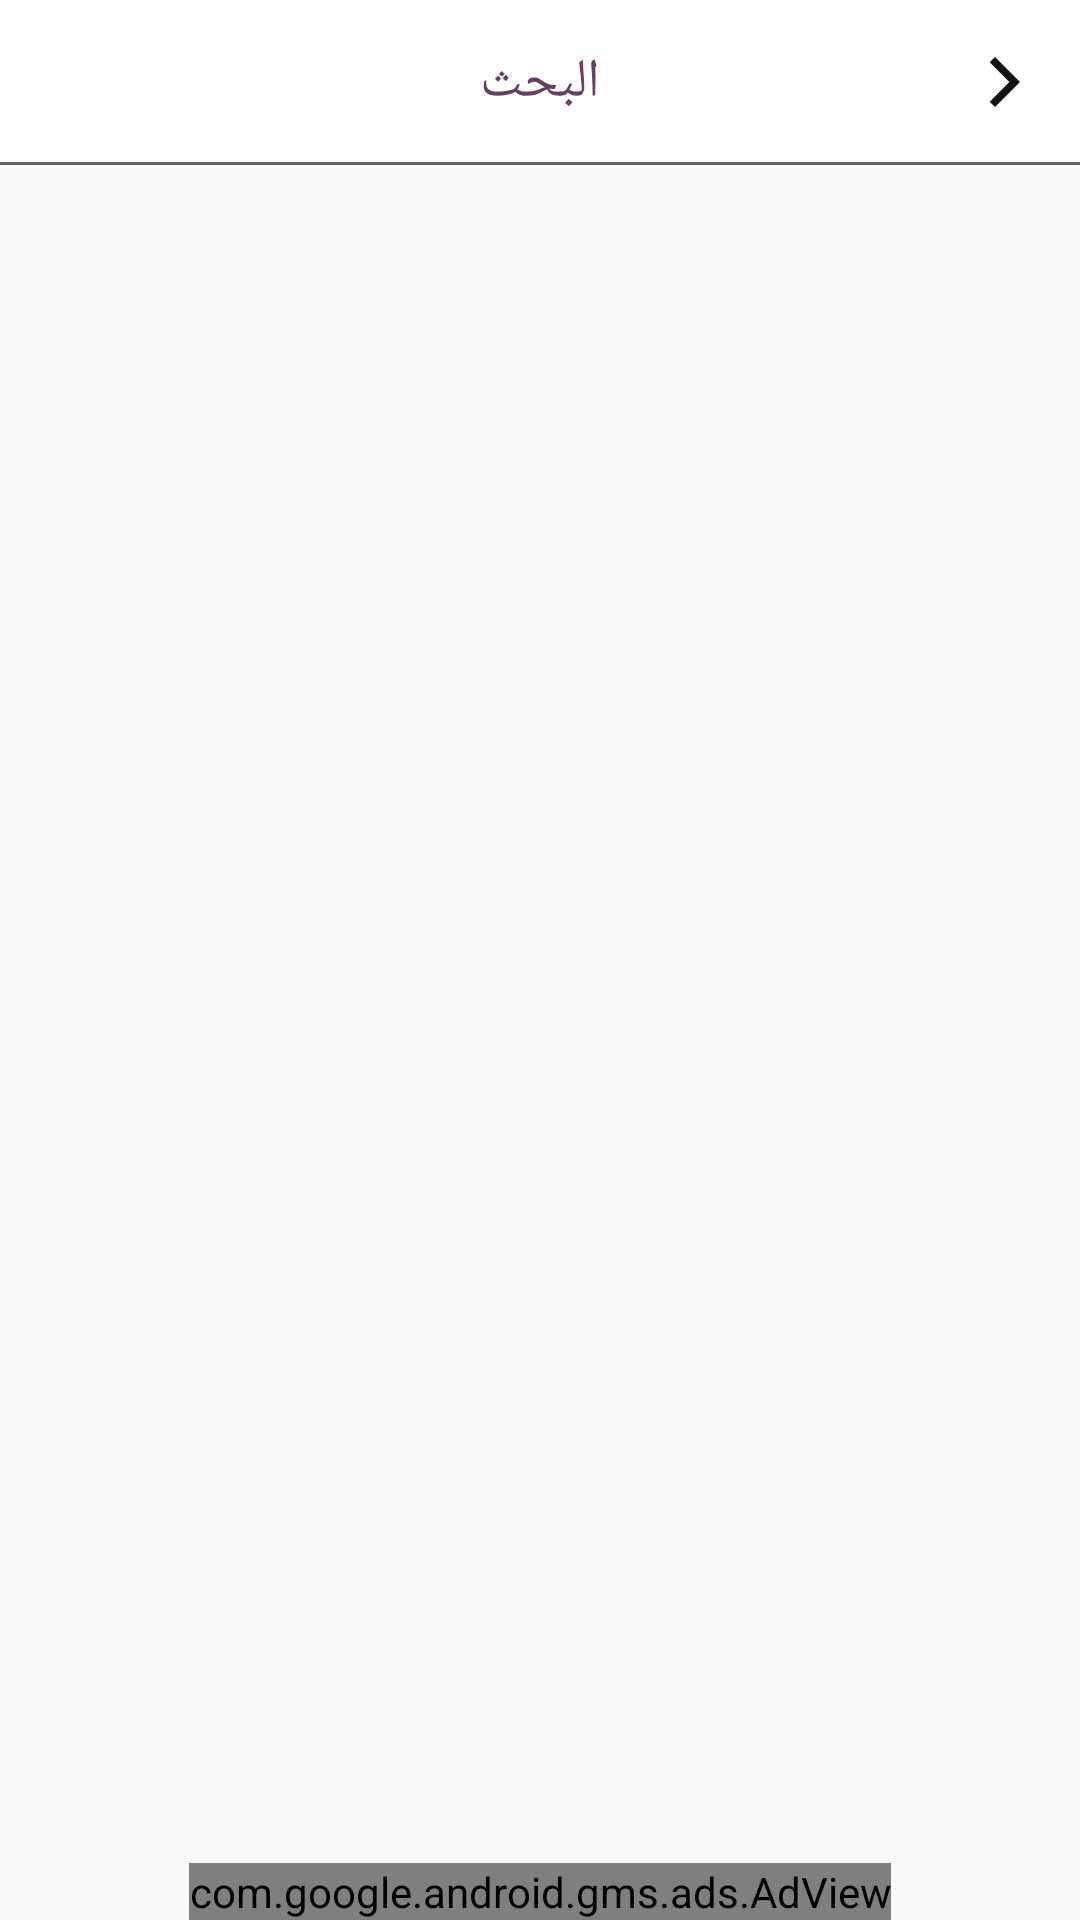

Where icons sit on this 1080px x 1920px app screen, as box(x1, y1, x2, y2):
arrow forward: box(990, 57, 1020, 107)
